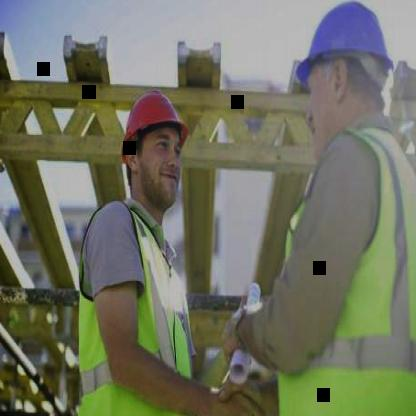helmet: (288, 0, 407, 176), (115, 80, 194, 214)
